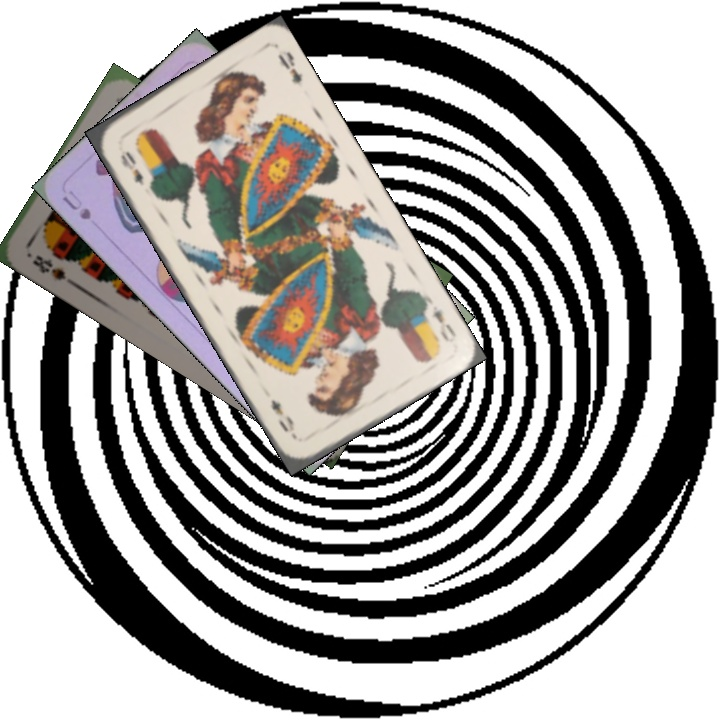EO: (419, 293, 460, 345), (116, 147, 147, 189)
S8: (28, 250, 76, 287)
SU: (58, 185, 94, 223)
